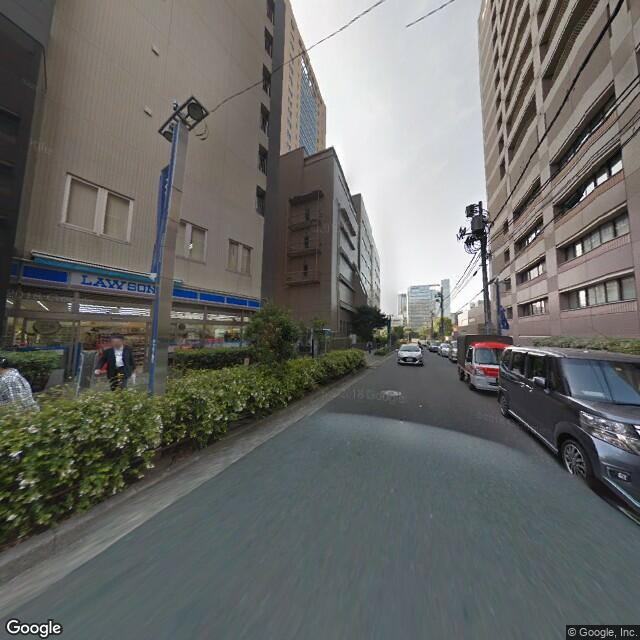lawson: (16, 259, 261, 314)
